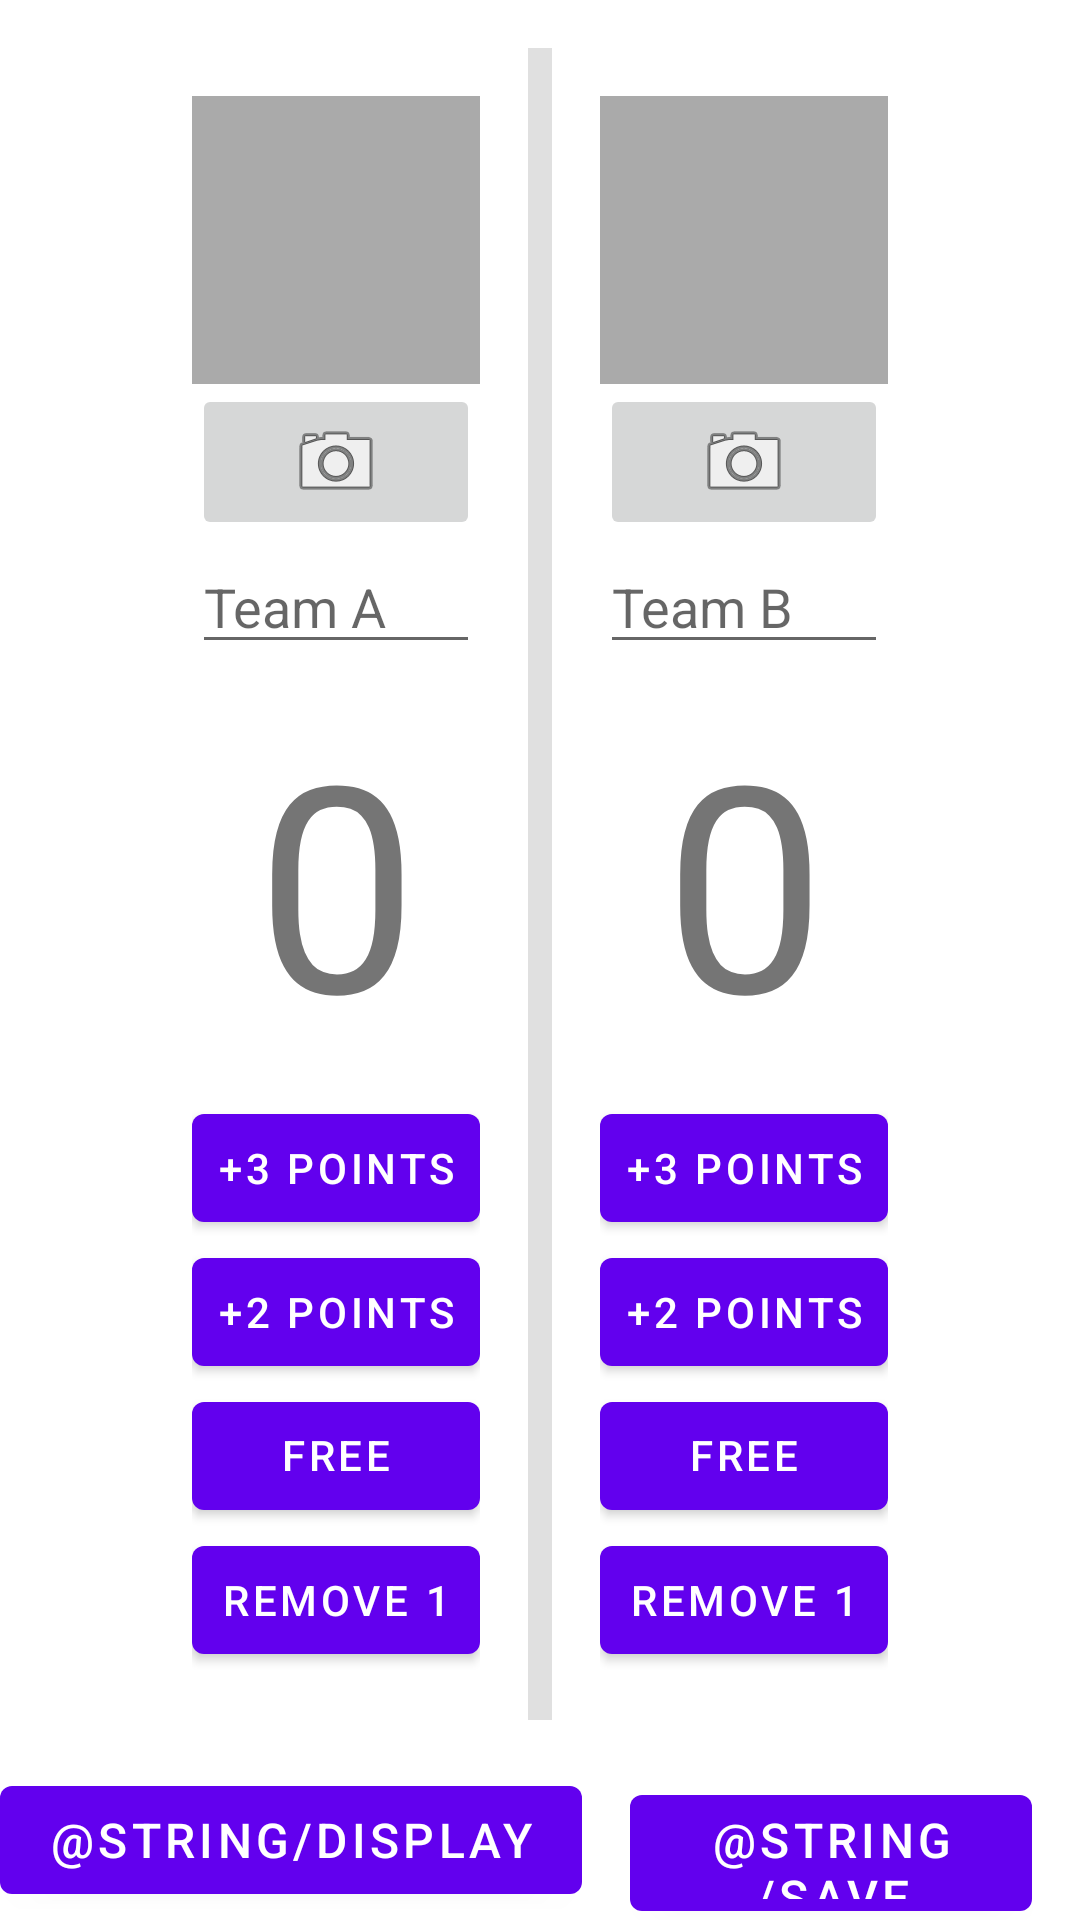

Icon bounding boxes for this 1080 × 1920 phone screenshot, format box(x1, y1, x2, y2):
camera: box(204, 402, 468, 522), box(612, 402, 876, 522)
